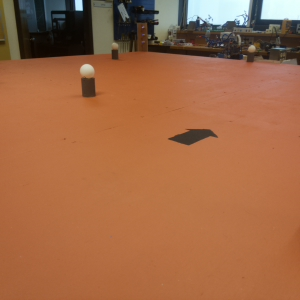corner: (135, 21, 151, 53)
obstacle: (79, 62, 98, 98), (246, 44, 257, 63), (111, 42, 120, 61)
start: (168, 127, 219, 145)
